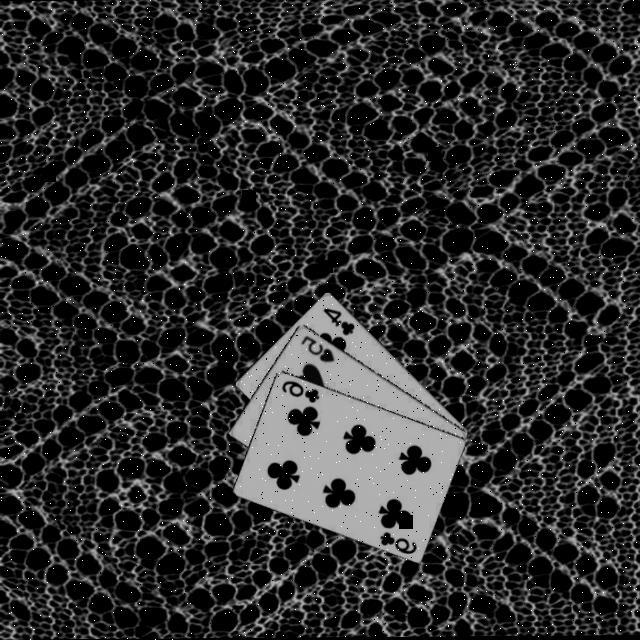4C: (319, 303, 357, 336)
5H: (296, 330, 336, 362)
6C: (278, 376, 321, 404), (376, 526, 418, 554)
